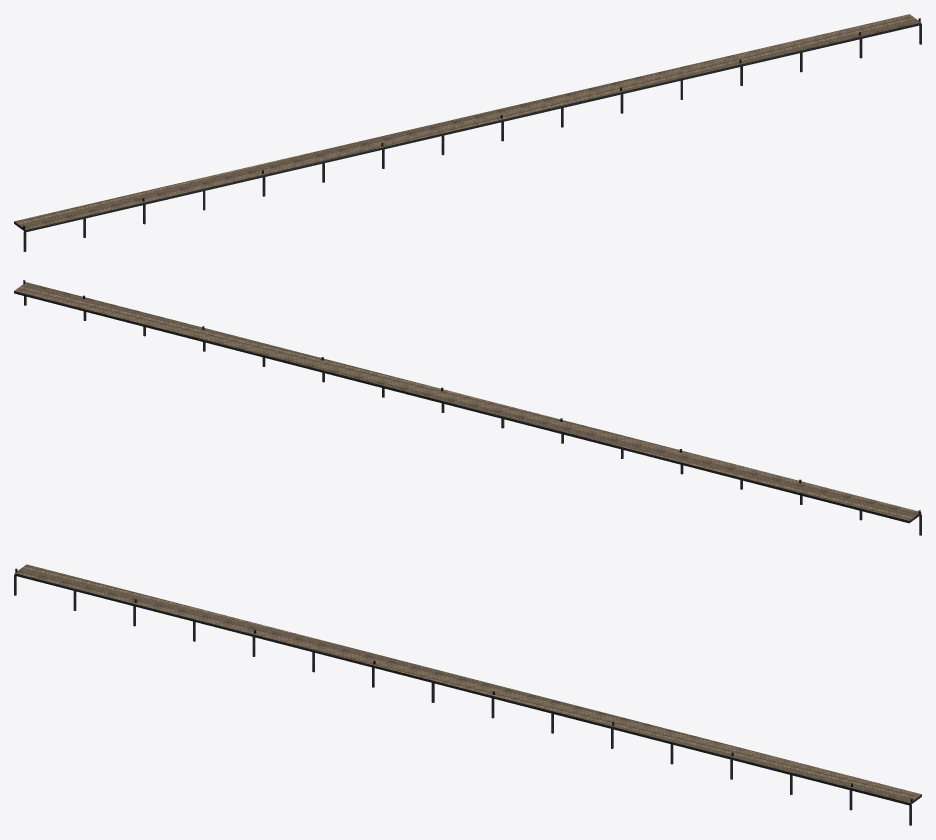
Rendered from SM_Molo_Pontiletto_Sud.fbx.
3 renders of one model, top to bottom at view 1: azimuth 30°, elevation 25°; view 2: azimuth 150°, elevation 25°; view 3: azimuth 330°, elevation 25°, orthographic. The views are drawn at different scales.
Parts seen in each view (by area): view 1: SM_Molo_Pontiletto_Sud; view 2: SM_Molo_Pontiletto_Sud; view 3: SM_Molo_Pontiletto_Sud.
Part boxes in pixels (bbox=[...]): SM_Molo_Pontiletto_Sud: bbox=[14, 14, 921, 251]; SM_Molo_Pontiletto_Sud: bbox=[14, 280, 921, 535]; SM_Molo_Pontiletto_Sud: bbox=[14, 564, 921, 825].
Size of what is drawn, in the model's own units: 7800 by 356 by 209.
Materials: 2 (2 with a texture image).
